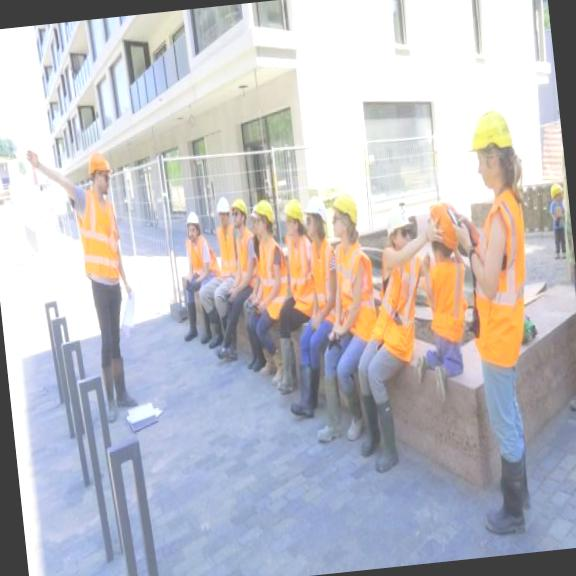safety_vest: (464, 195, 534, 360), (369, 254, 428, 351), (422, 253, 469, 348), (78, 192, 118, 292), (339, 235, 370, 336), (252, 237, 284, 310), (307, 240, 333, 322)
